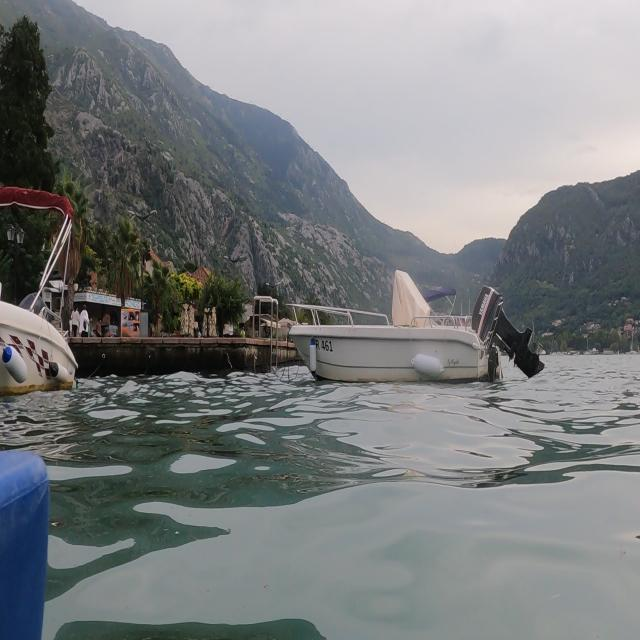boat: (285, 265, 545, 389), (0, 171, 92, 397)
